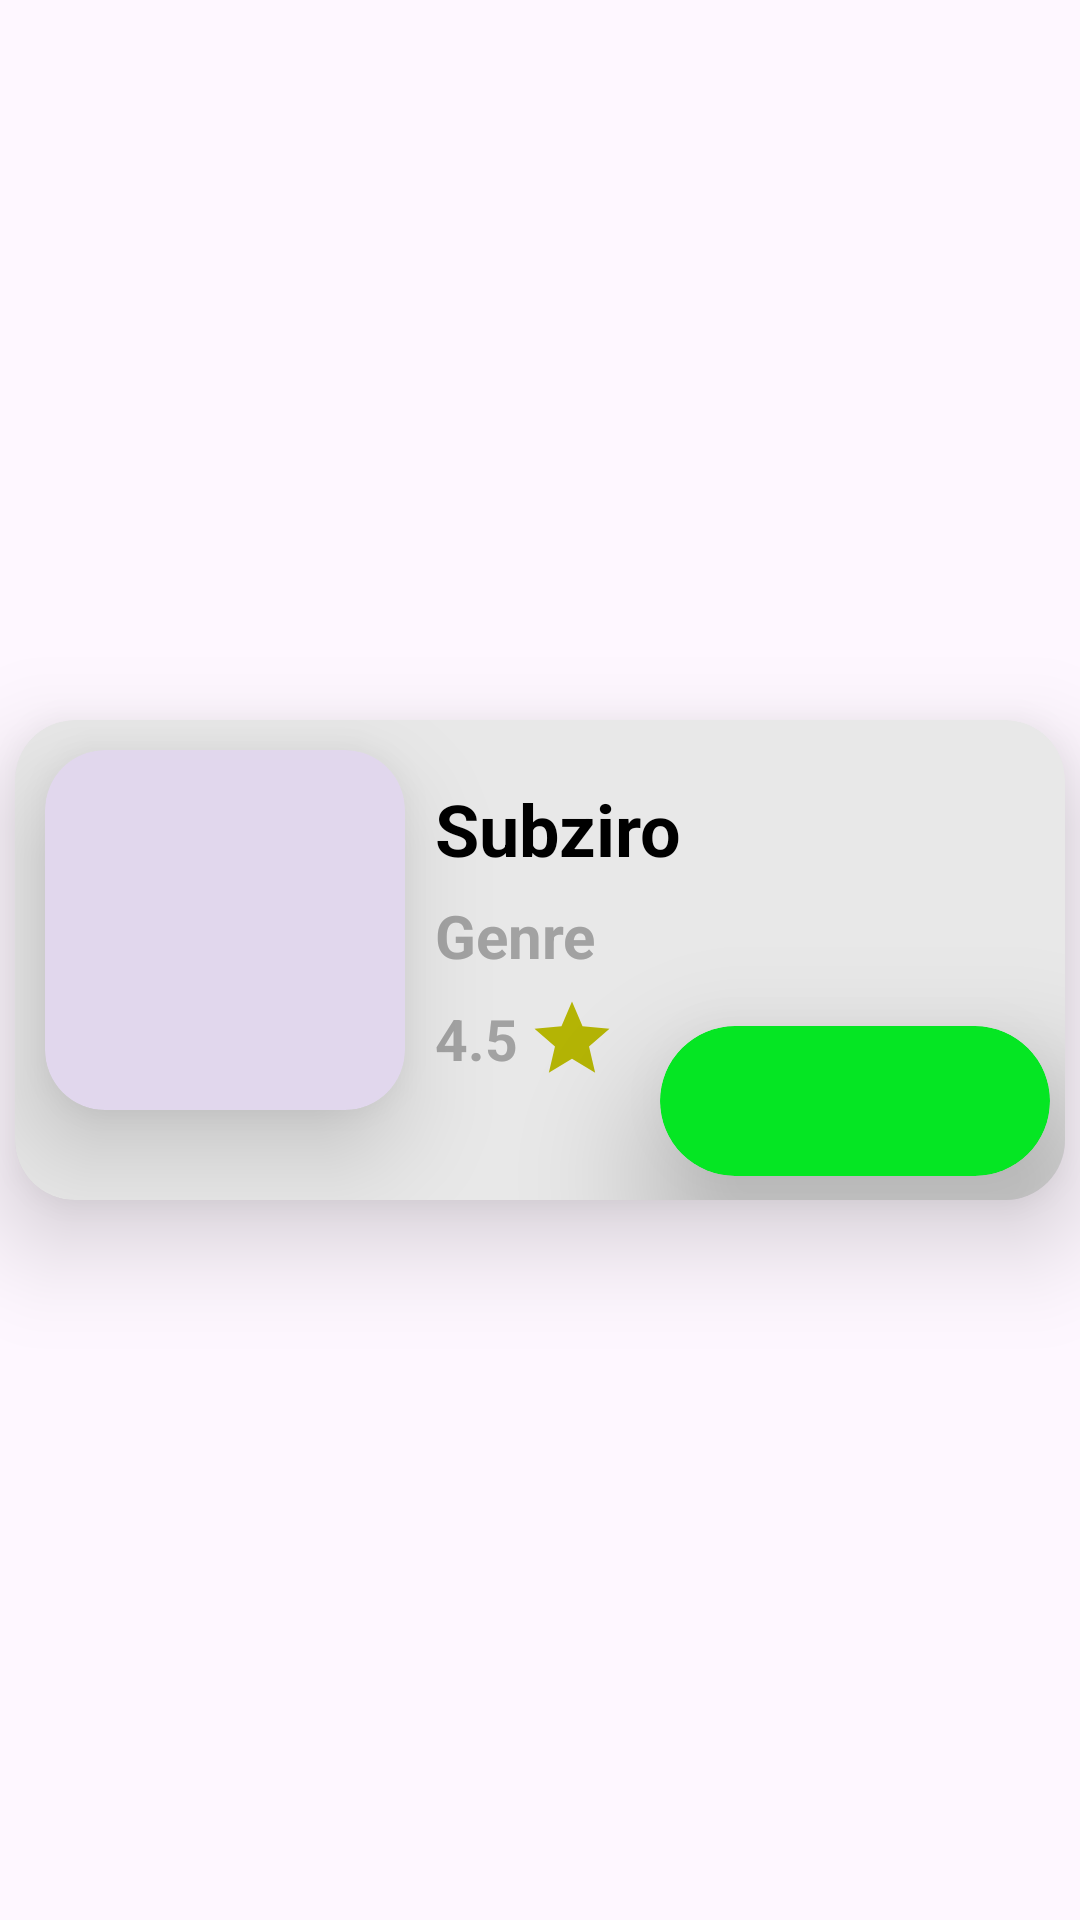

Icon click points for this 1080x1920 phone screenshot, format (x=x, y=y):
rate: (x=572, y=1037)
